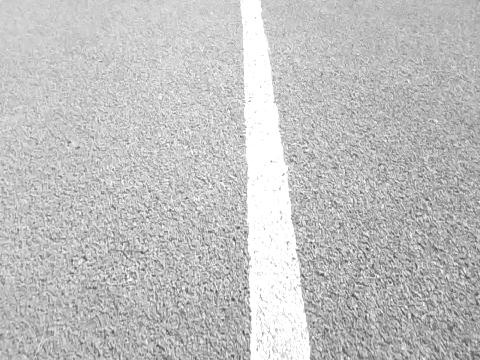Lines: (239, 0, 312, 360)
